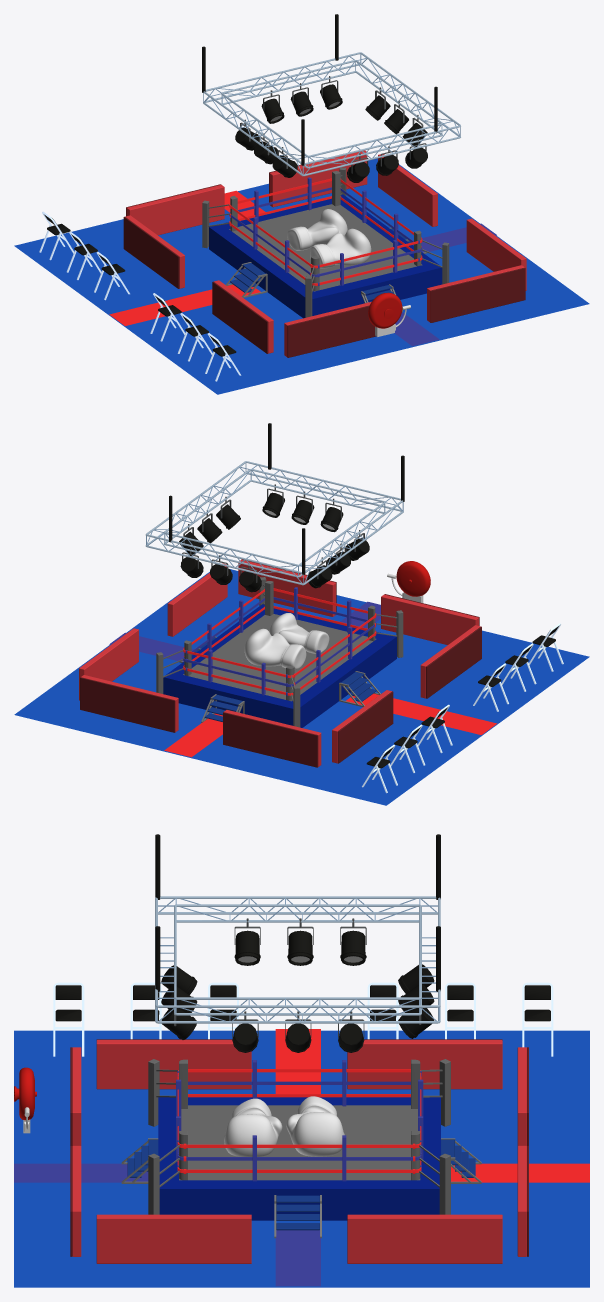
Rendered from Action.fbx.
3 views of the same model, one above another, from view 1: azimuth 30°, elevation 25°; view 2: azimuth 150°, elevation 25°; view 3: azimuth 270°, elevation 25° (orthographic). The views are drawn at different scales.
Visible parts, largest first — view 1: Genre.006, Cube.349, Plane.005, Plane.003, Plane.002, Cylinder.698, Plane.004, Cube.346, Cube.431, Cube.438, Boxing Glove.001, Cube.052 (+13 smaller); view 2: Genre.006, Cube.349, Plane.005, Plane.003, Plane.002, Cylinder.698, Plane.004, Cube.346, Cube.431, Cube.438, Boxing Glove.004, Cube.428 (+14 smaller); view 3: Genre.006, Plane.002, Cube.349, Cylinder.698, Cube.346, Cube.431, Cube.428, Plane.003, Cube.442, Cube.052, Cube.347, Cylinder.036 (+16 smaller).
Boxes of the visible parts, box(x1,y1,x2,y2) form: Genre.006: box(14, 158, 589, 394); Cube.349: box(209, 194, 442, 318); Plane.005: box(126, 164, 525, 357); Plane.003: box(126, 150, 524, 356); Plane.002: box(125, 154, 526, 353); Cylinder.698: box(203, 52, 460, 176); Plane.004: box(123, 216, 267, 353); Cube.346: box(229, 178, 422, 285); Cube.431: box(109, 223, 496, 325); Cube.438: box(203, 54, 460, 174); Boxing Glove.001: box(310, 228, 371, 268); Cube.052: box(150, 293, 241, 381); Genre.006: box(14, 569, 589, 805); Cube.349: box(163, 604, 396, 727); Plane.005: box(80, 559, 479, 767); Plane.003: box(81, 559, 478, 766); Plane.002: box(79, 563, 480, 763); Cylinder.698: box(145, 461, 403, 585); Plane.004: box(337, 626, 481, 763); Cube.346: box(183, 588, 376, 695); Cube.431: box(109, 632, 497, 734); Cube.438: box(146, 463, 403, 583); Boxing Glove.004: box(244, 628, 306, 669); Cube.428: box(164, 601, 380, 757); Genre.006: box(14, 1030, 589, 1287); Plane.002: box(96, 1040, 502, 1263); Cube.349: box(158, 1097, 440, 1220); Cylinder.698: box(155, 896, 440, 1023); Cube.346: box(177, 1069, 421, 1172); Cube.431: box(275, 1029, 320, 1286); Cube.428: box(14, 1163, 589, 1182); Plane.003: box(72, 1047, 526, 1256); Cube.442: box(367, 982, 553, 1056); Cube.052: box(53, 982, 238, 1056); Cube.347: box(148, 1059, 450, 1214); Cylinder.036: box(234, 918, 366, 965).
Size of the model in its own units: 1714 by 1622 by 902.
